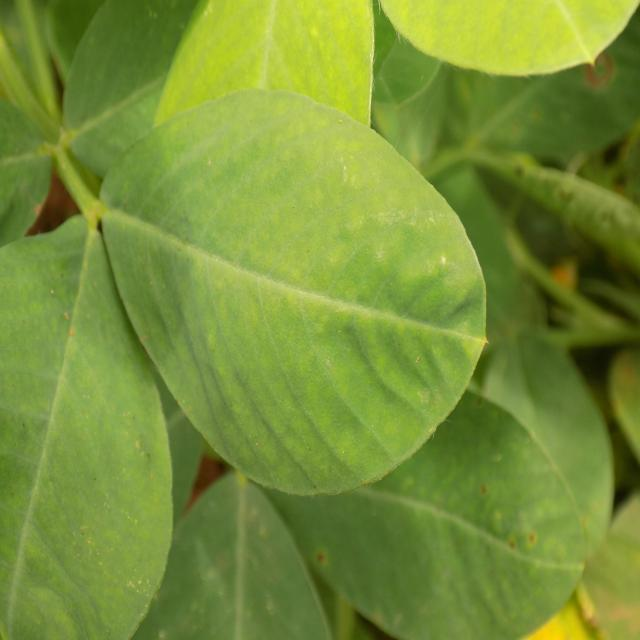Ground nut_healthy: (97, 81, 481, 494), (254, 385, 586, 640)
